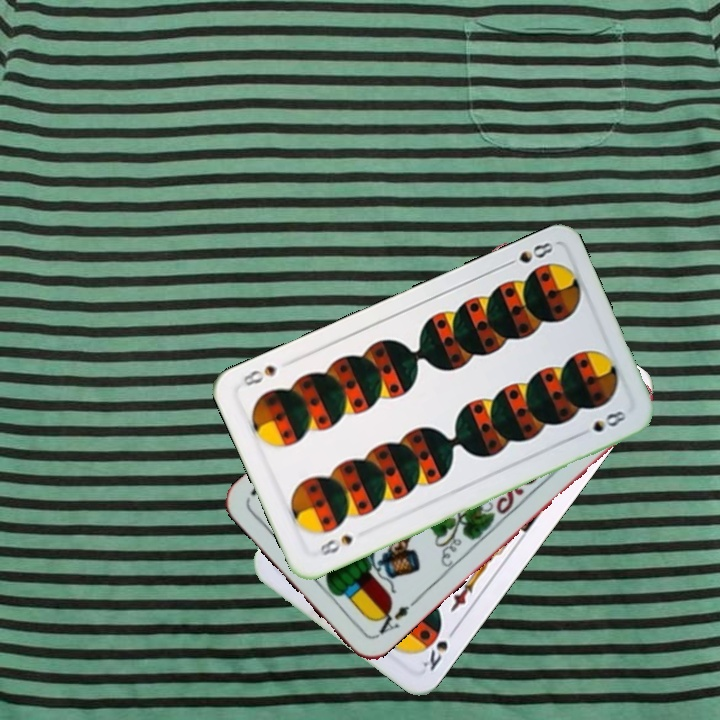EA: (371, 600, 412, 640)
S8: (499, 238, 557, 270), (315, 530, 355, 559)
SK: (418, 622, 460, 674)
